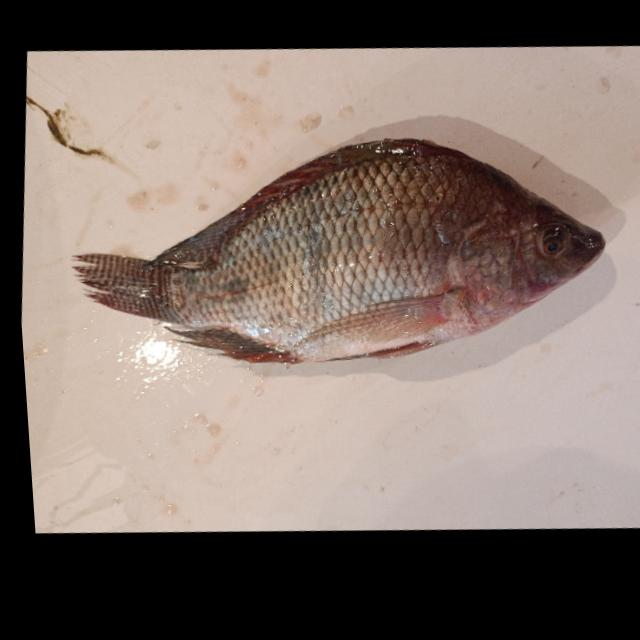Tilapia: (51, 85, 621, 411)
